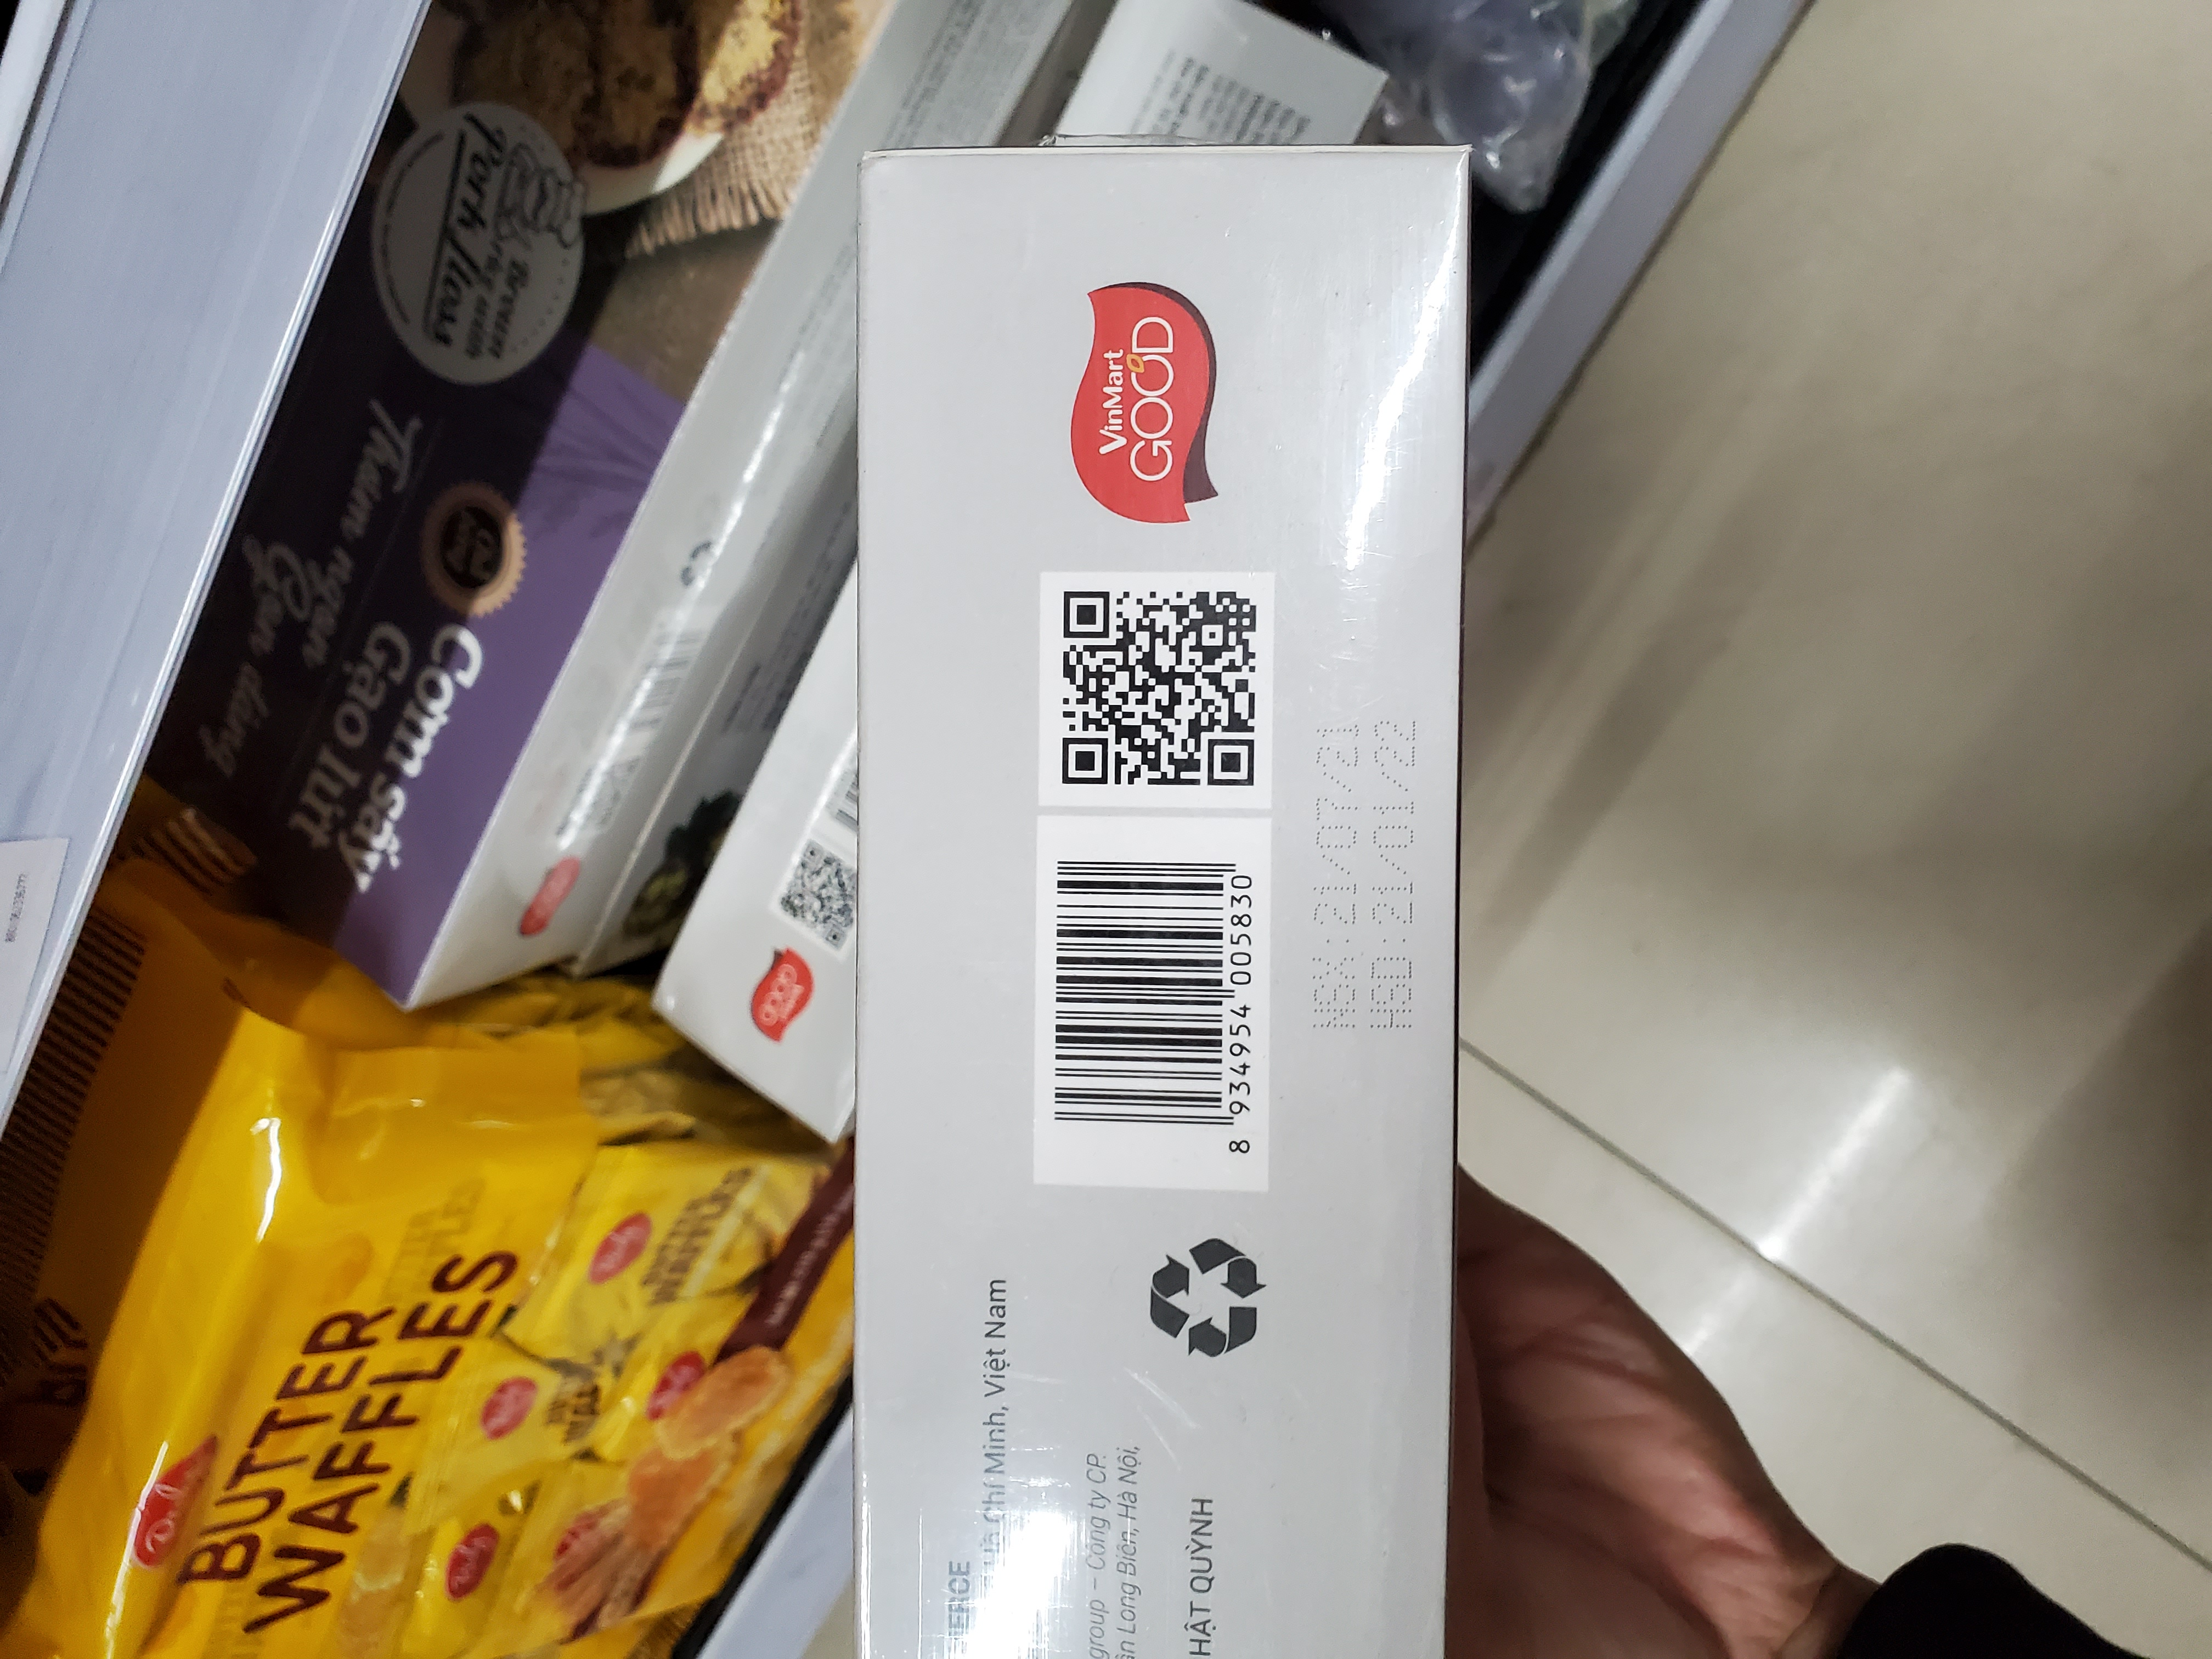barcode: (1028, 830, 1270, 1202)
qr code: (1017, 563, 1280, 809)
